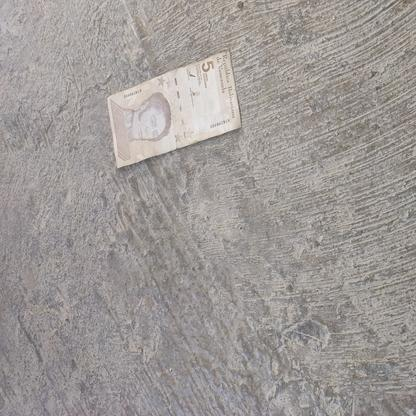five-front-vef: (106, 50, 242, 168)
